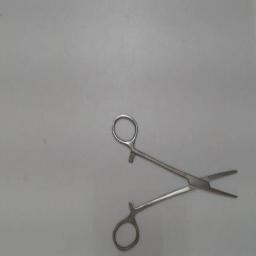Mayo Needle Holder: (108, 111, 246, 253)
